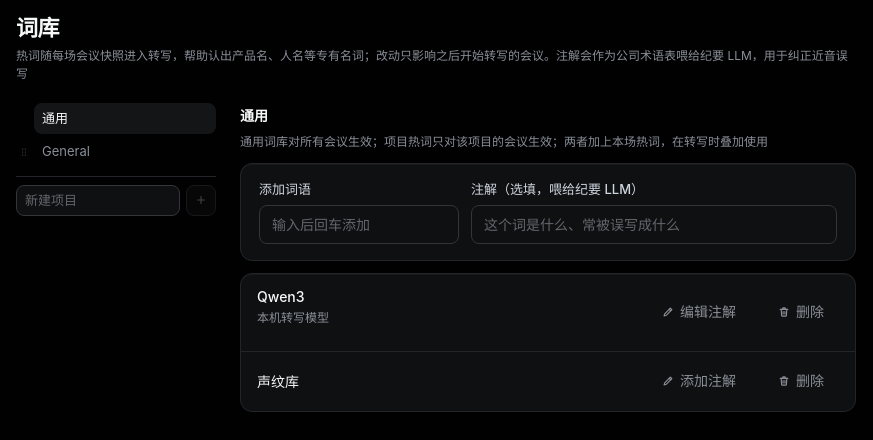
Test: 词库页 › 就地编辑注解并保存：PATCH 生效、列表即时更新
Expected: the text "本机转写模型" is shown, [257,310,329,325]
Click the button with aria-label "编辑注解 Qwen3" at (699, 312), box [647,295,751,330]
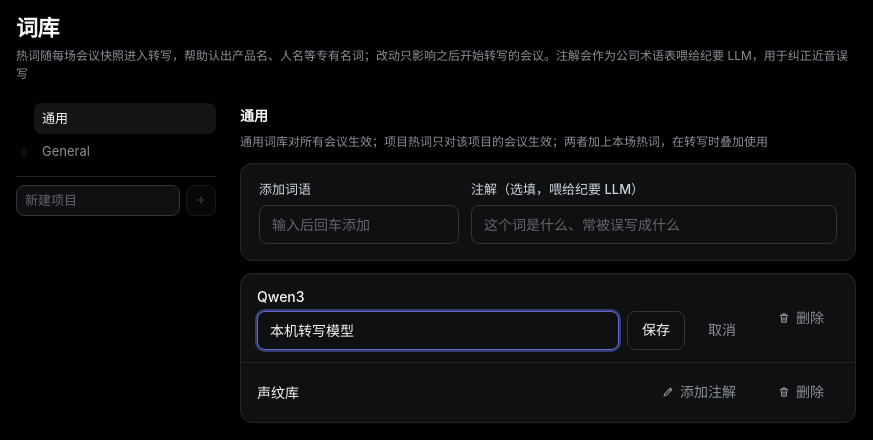
Expected: the field named "注解内容 Qwen3" holds "本机转写模型"
Replace the text in the field named "注解内容 Qwen3" with "本机 ASR 模型（Qwen3-ASR）" at (438, 330), box [257,311,619,350]
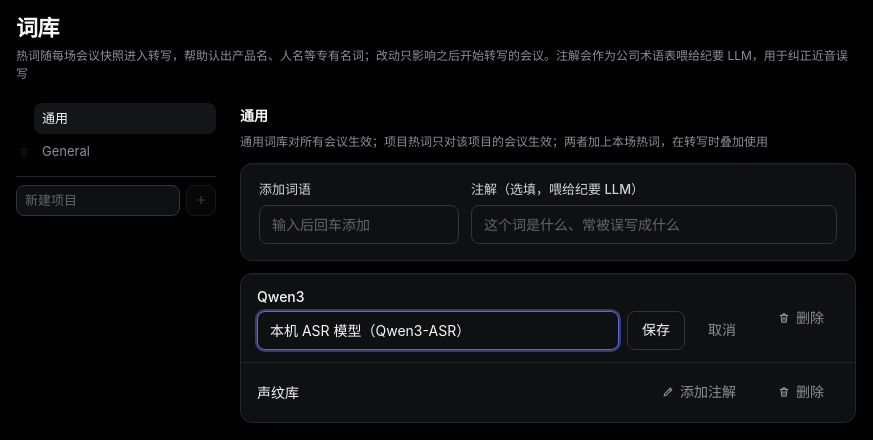
Press Enter in the field named "注解内容 Qwen3", box [257,311,619,350]
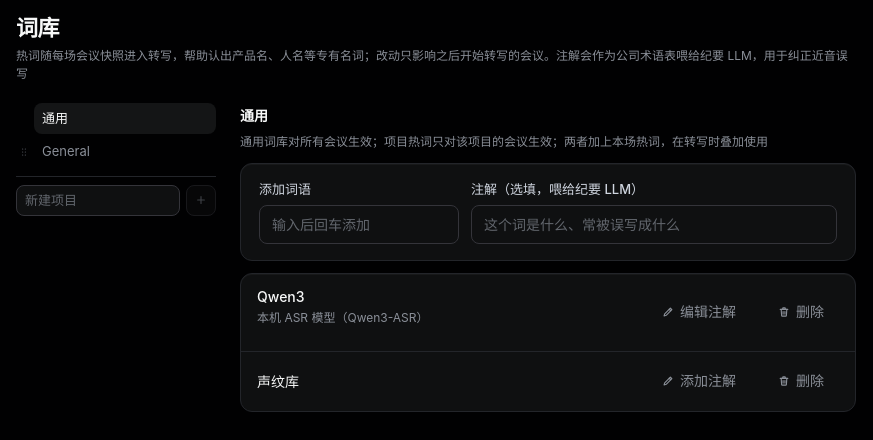
Expected: the text "本机 ASR 模型（Qwen3-ASR）" is shown, [257,310,428,325]
